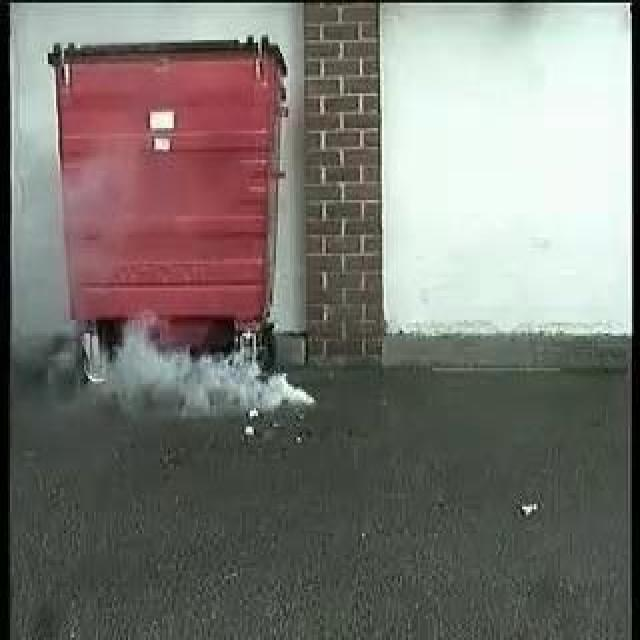Smoke: (95, 321, 319, 412)
